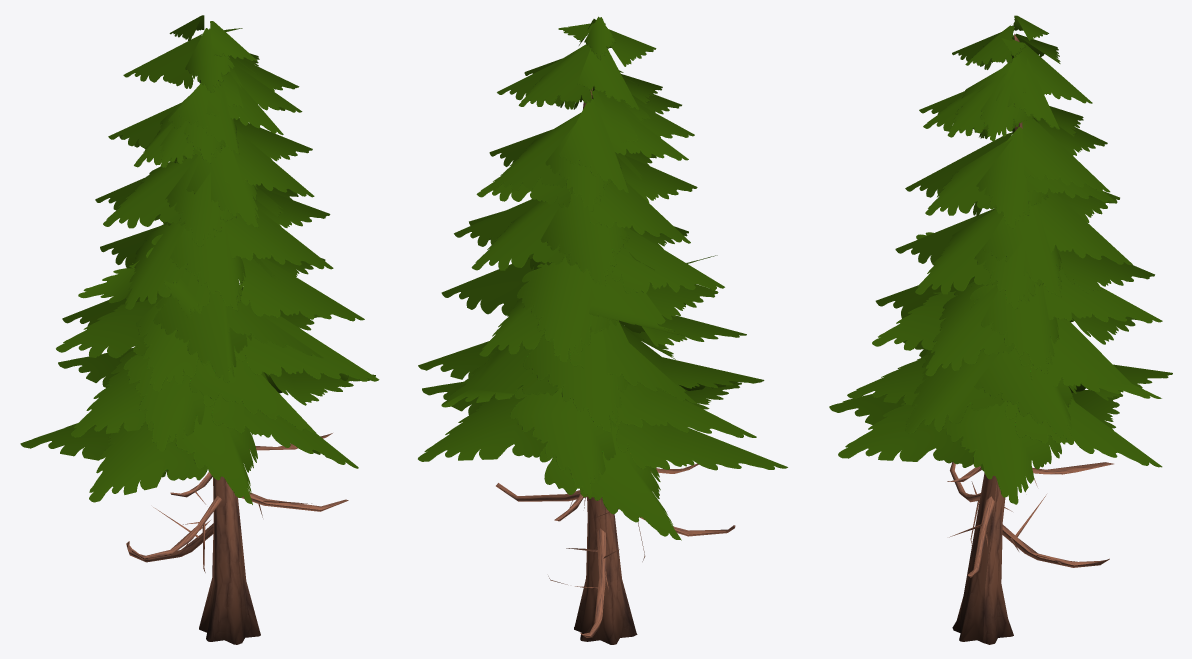
The model's file is Pine_4_far.gltf.
3 views of the same model, side by side, from view 1: azimuth 30°, elevation 25°; view 2: azimuth 150°, elevation 25°; view 3: azimuth 270°, elevation 25° (orthographic). The views are drawn at different scales.
Parts seen in each view (by area): view 1: Pine_4; view 2: Pine_4; view 3: Pine_4.
Boxes of the visible parts, <box> form: Pine_4: <box>20,15,379,644</box>; Pine_4: <box>418,16,787,644</box>; Pine_4: <box>829,15,1172,644</box>.
Bounding box in the file's own units: 5.8 × 10.24 × 5.37.
Materials: 2 (2 with a texture image).
